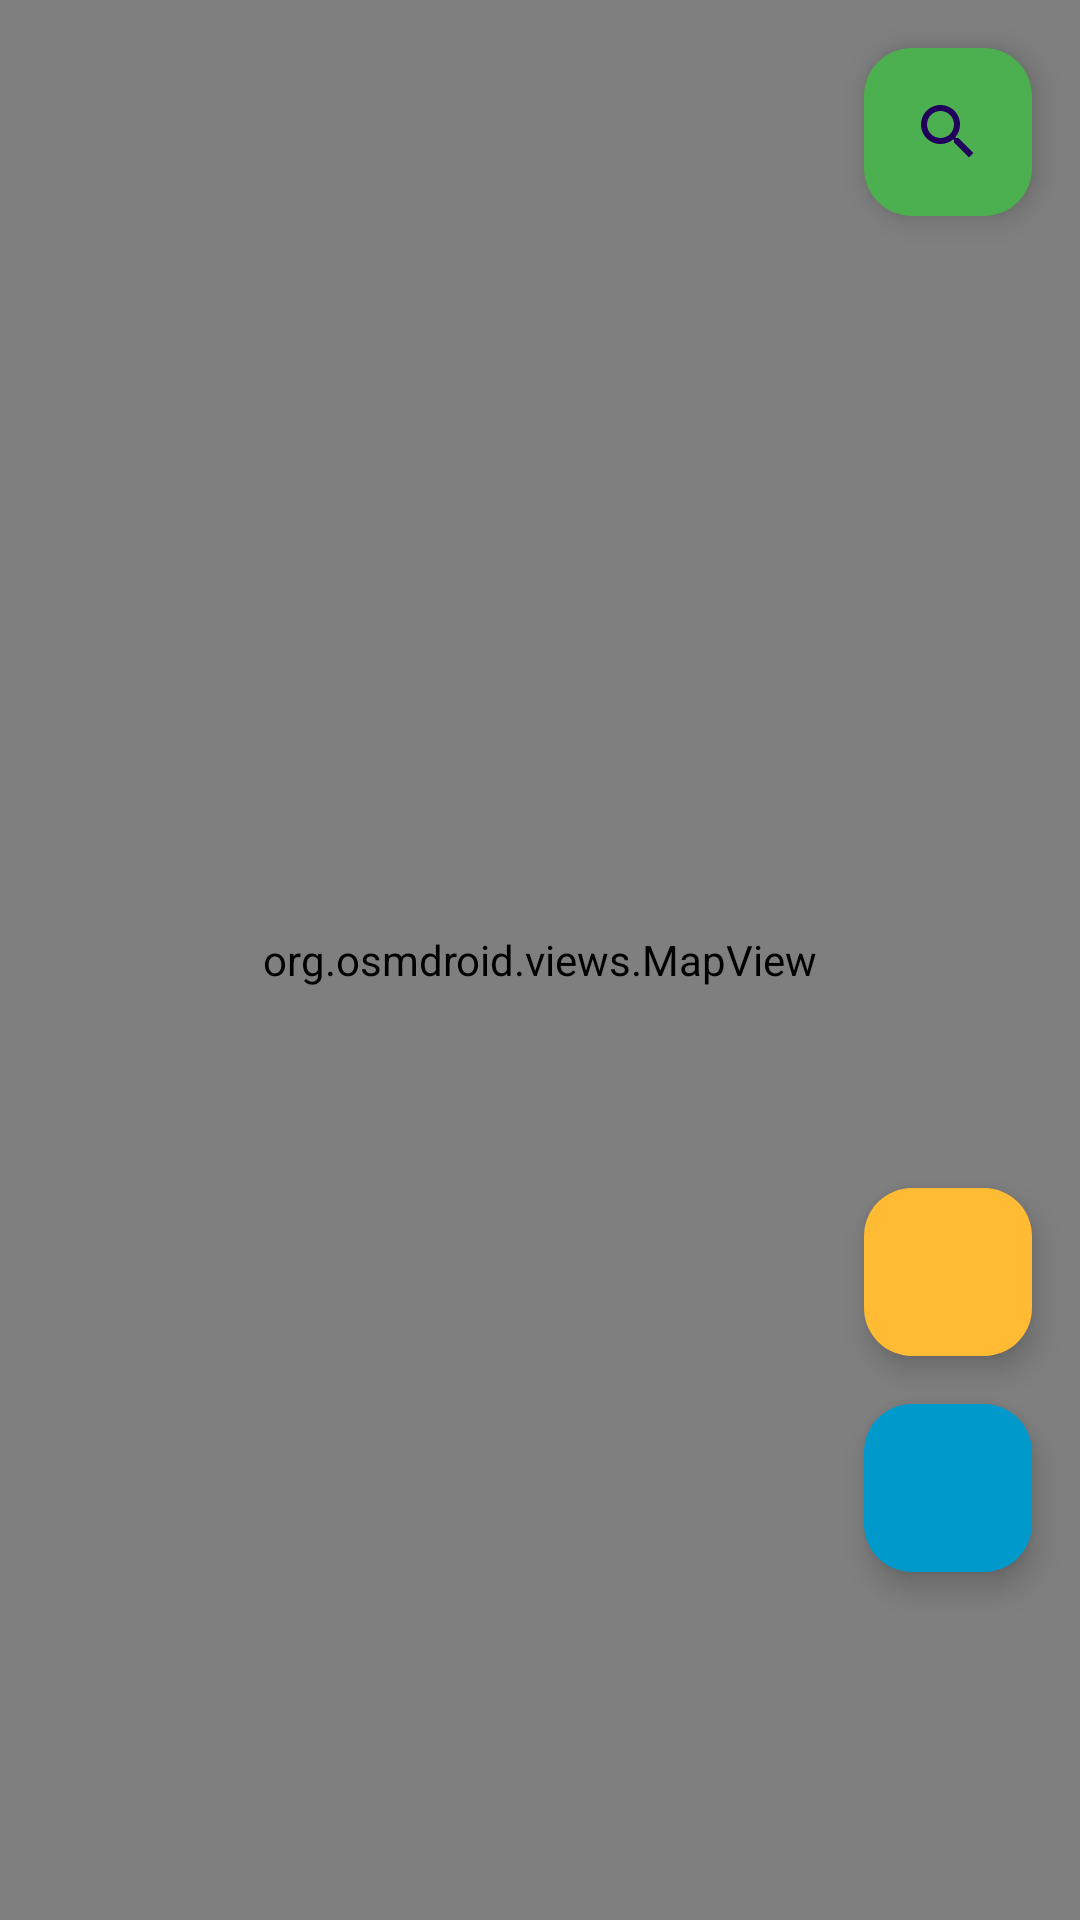

Icons on this 1080×1920 Android screen, each with the point to tap as (x=x, y=y):
search: (x=948, y=132)
